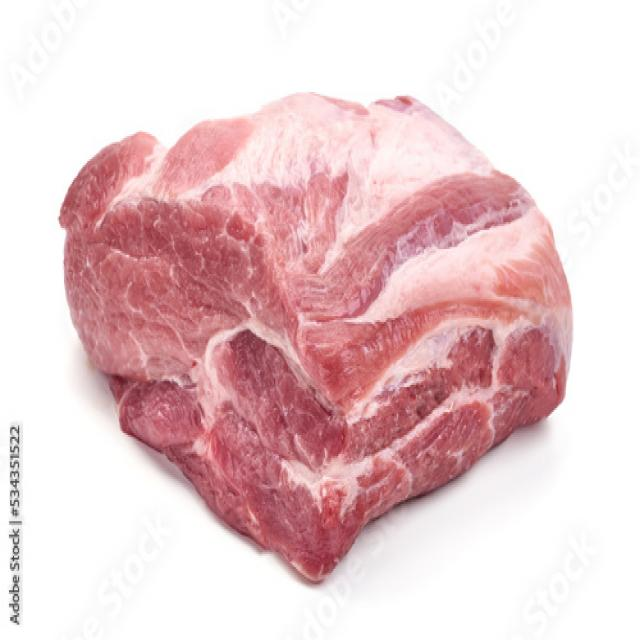Pork: (60, 94, 573, 582)
